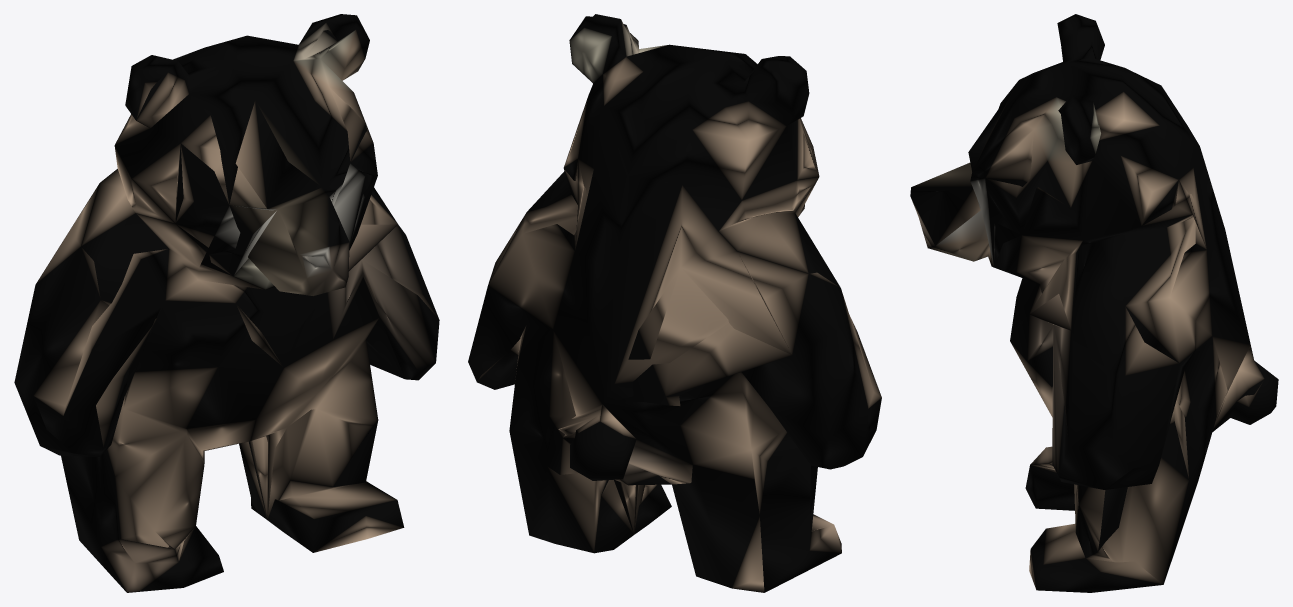
File: gen3d-bear-lod1.glb
3 renders of one model, left to right at view 1: azimuth 30°, elevation 25°; view 2: azimuth 150°, elevation 25°; view 3: azimuth 270°, elevation 25°, orthographic. The views are drawn at different scales.
Visible parts, largest first — view 1: part_0; view 2: part_0; view 3: part_0.
Boxes of the visible parts, left/top/right/bottom form: part_0: left=14, top=14, right=439, bottom=592; part_0: left=468, top=14, right=881, bottom=592; part_0: left=910, top=14, right=1278, bottom=592.
Size of the model in its own units: 0.8098 by 0.9959 by 0.7017.
